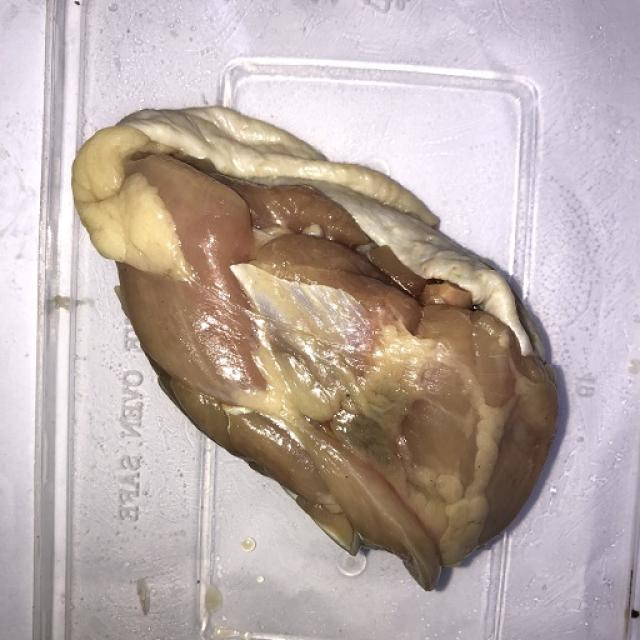chicken: (70, 104, 560, 591)
